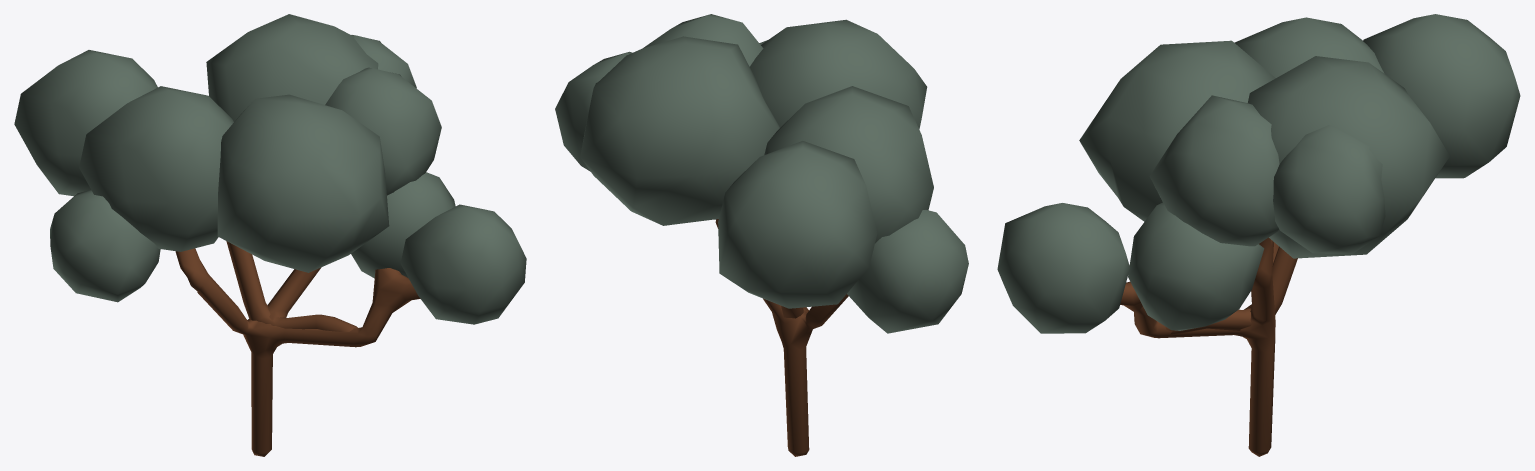
File: tree_v2.fbx
3 renders of one model, left to right at view 1: azimuth 30°, elevation 25°; view 2: azimuth 150°, elevation 25°; view 3: azimuth 270°, elevation 25°, orthographic. The views are drawn at different scales.
Parts seen in each view (by area): view 1: tree.002; view 2: tree.002; view 3: tree.002.
Boxes of the visible parts, bbox=[...] form: tree.002: bbox=[14, 14, 526, 456]; tree.002: bbox=[555, 14, 968, 456]; tree.002: bbox=[997, 14, 1520, 456].
Size of the model in its own units: 675 by 702 by 785.
